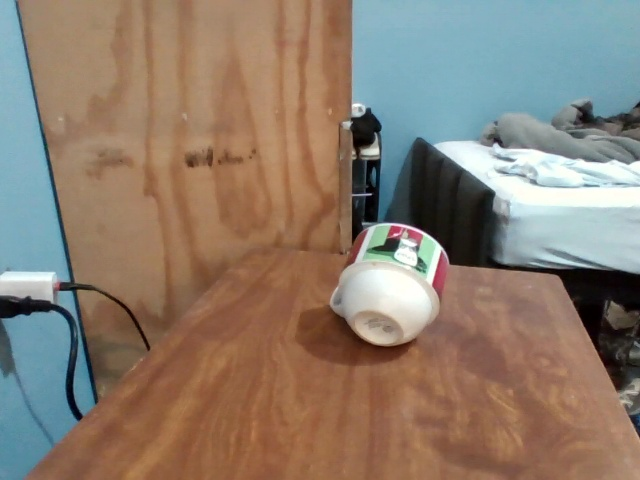taza: (329, 220, 448, 347)
